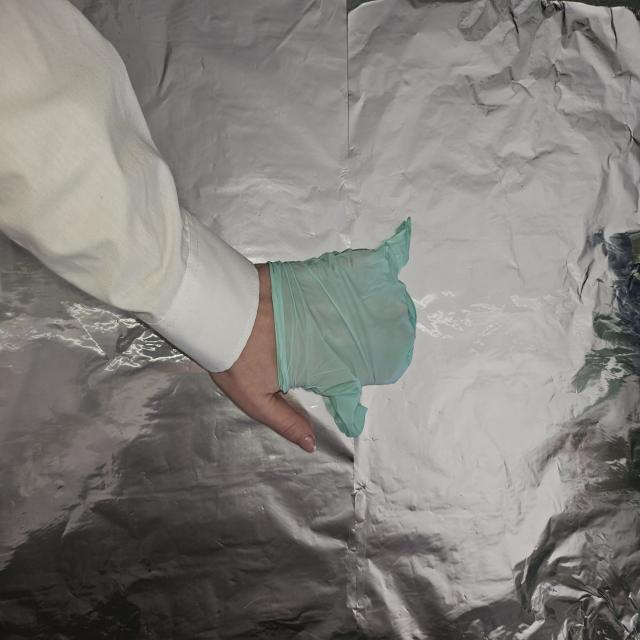glove_partial: (216, 216, 417, 454)
